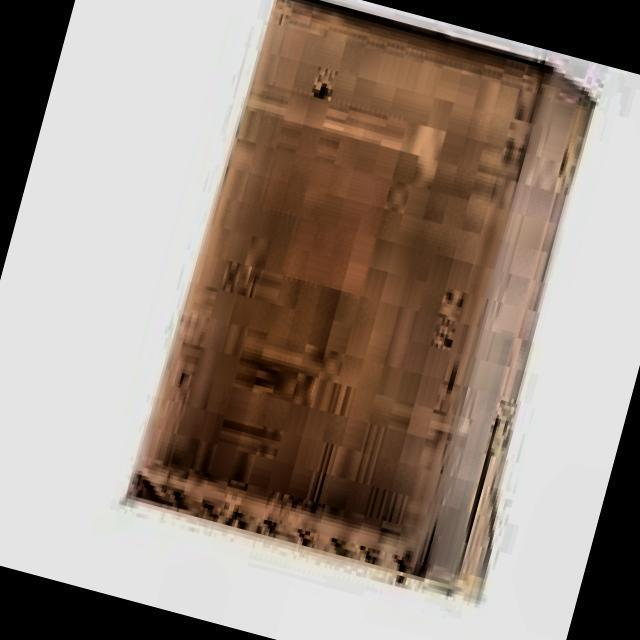cardboard: (117, 0, 619, 611)
